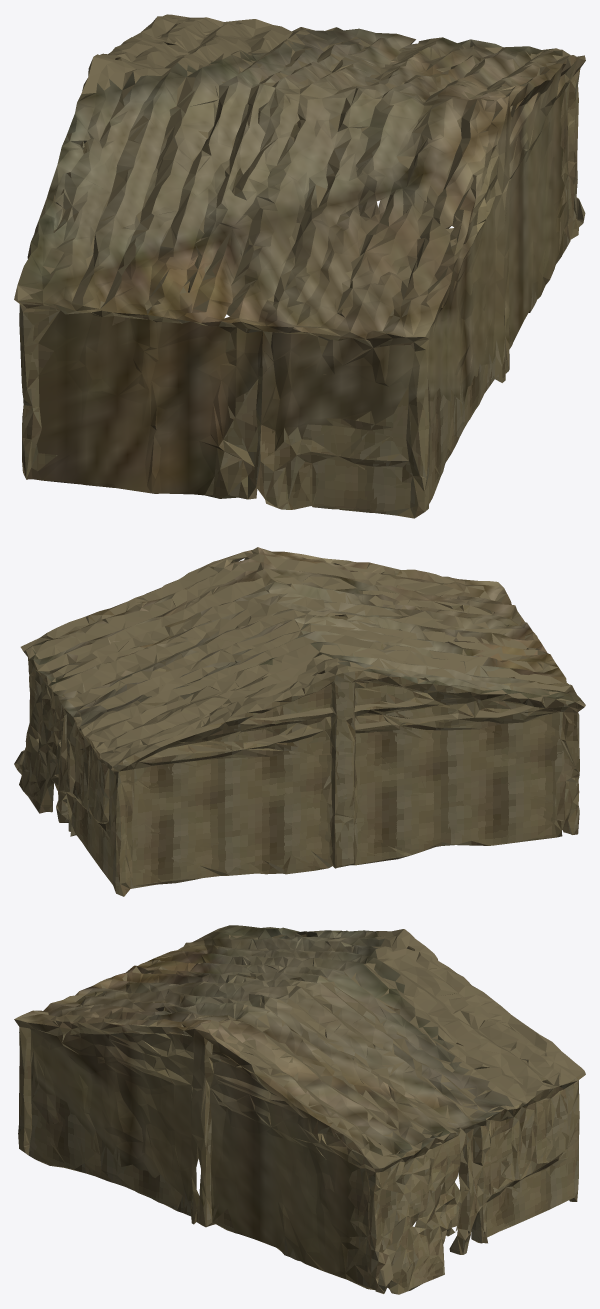
3 renders of one model, top to bottom at view 1: azimuth 30°, elevation 25°; view 2: azimuth 150°, elevation 25°; view 3: azimuth 270°, elevation 25°, orthographic. The views are drawn at different scales.
Visible parts, largest first — view 1: painted, wall, roof; view 2: wall, roof, painted; view 3: painted, wall, roof.
Part boxes in pixels (<box>): painted: <box>17,27,570,495</box>; wall: <box>15,42,585,518</box>; roof: <box>14,14,585,507</box>; wall: <box>14,557,584,896</box>; roof: <box>14,547,585,820</box>; painted: <box>30,547,585,726</box>; painted: <box>14,925,513,1282</box>; wall: <box>18,932,584,1294</box>; roof: <box>24,926,585,1292</box>.
Bounding box in the file's own units: 2.58 × 1.03 × 2.59.
Materials: 3 (3 with a texture image).
